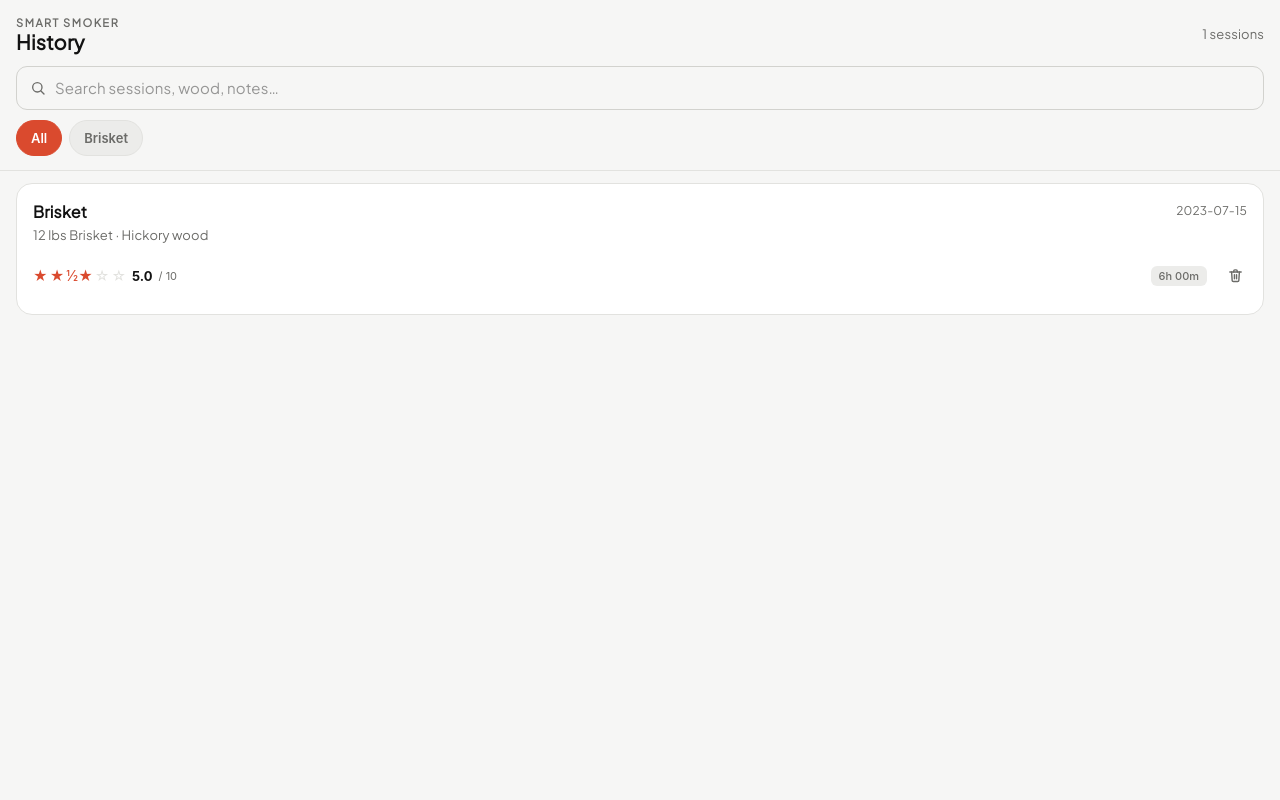
Test: History › declining the confirmation leaves the smoke where it was
This screenshot has width=1280, height=800.
Click the button named "Delete Brisket" at (1235, 276), box [1213, 254, 1257, 298]
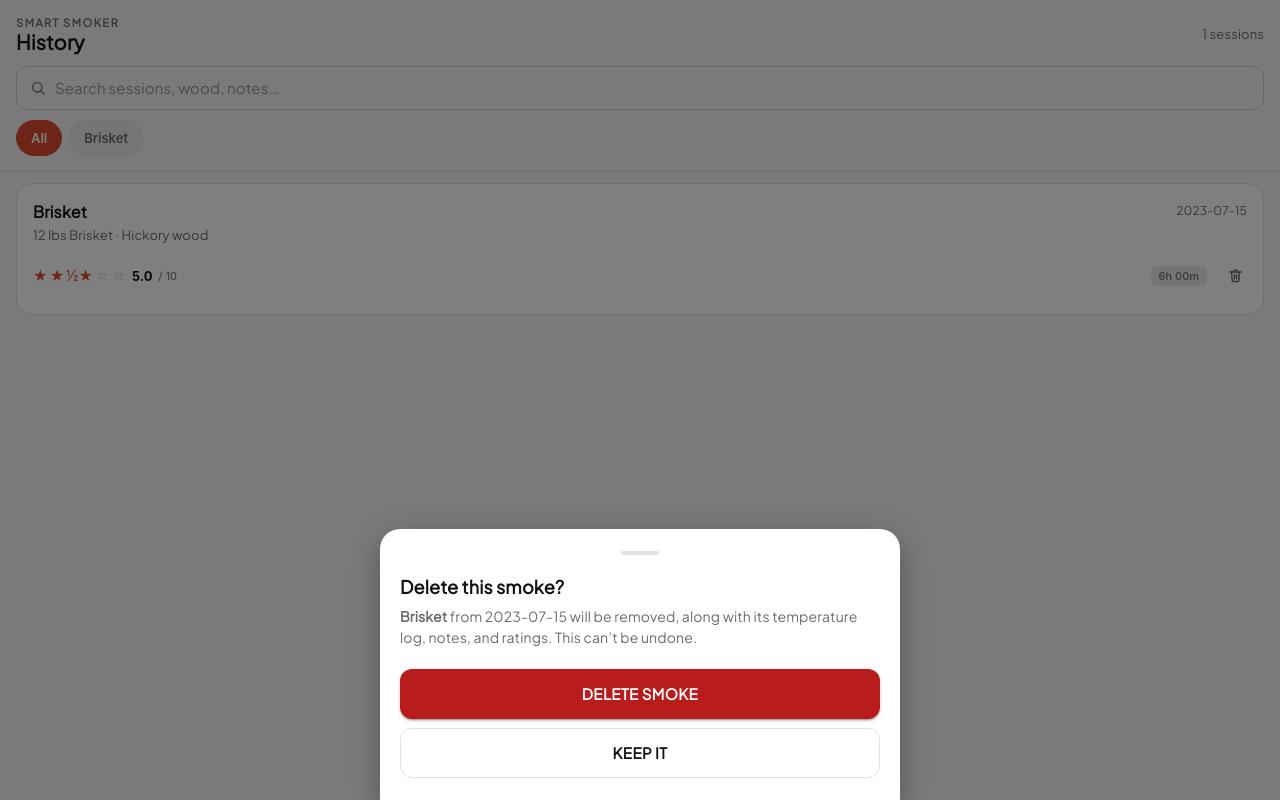
Click the button "Keep it" at (640, 753), box [400, 728, 880, 778]
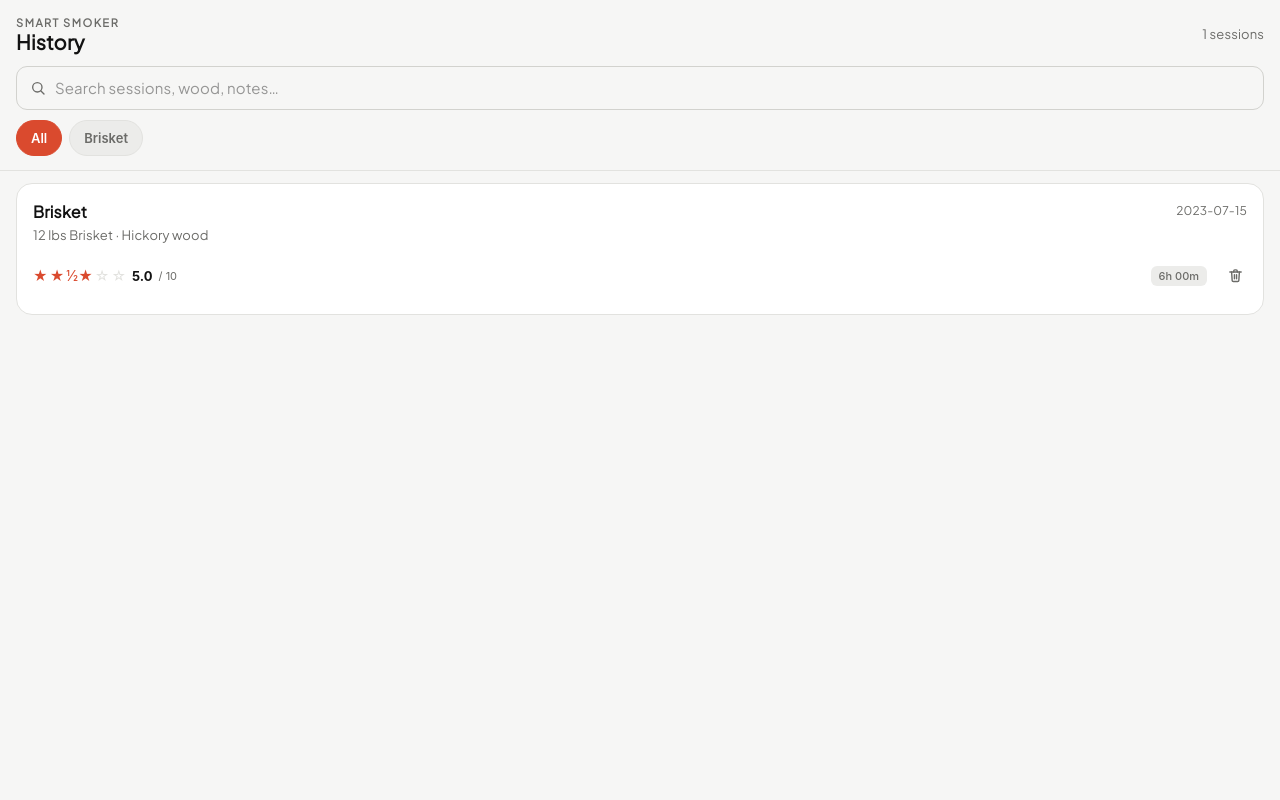
Expected: the heading "Brisket" is shown, [33, 201, 87, 222]
Now the dialog is gone
